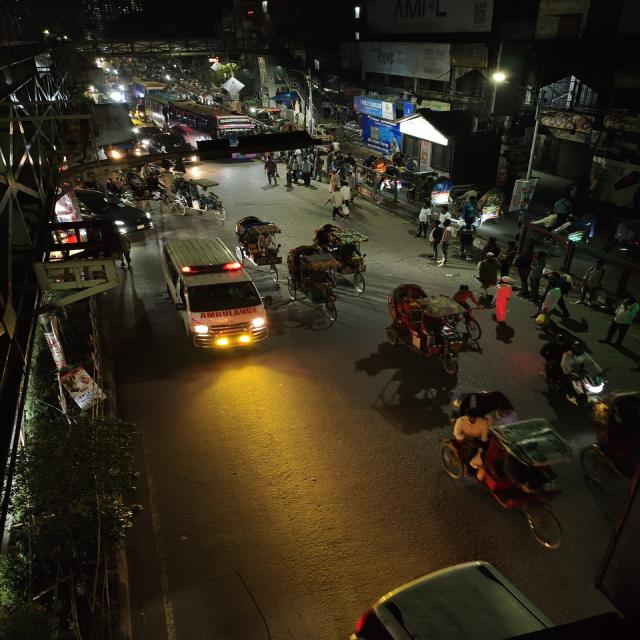bus: (144, 96, 254, 144)
car: (152, 232, 274, 354), (72, 192, 156, 230), (146, 135, 200, 163)
pedestrian: (534, 338, 616, 416), (530, 284, 572, 335), (602, 298, 639, 348), (452, 283, 484, 330), (487, 279, 520, 324), (426, 218, 456, 266), (522, 250, 550, 296), (474, 251, 504, 293), (510, 250, 539, 293), (578, 264, 603, 308), (328, 184, 356, 222), (291, 155, 317, 189), (454, 223, 477, 260), (459, 195, 482, 232), (260, 156, 281, 187), (556, 269, 576, 301), (414, 206, 433, 237), (313, 150, 330, 181), (283, 166, 300, 192), (483, 236, 501, 260), (502, 240, 517, 266)
pickup_van: (102, 142, 145, 162)
rickshaw: (433, 386, 584, 550), (377, 280, 481, 368), (284, 242, 343, 323), (311, 225, 374, 293), (232, 214, 285, 278), (168, 176, 229, 218), (408, 174, 454, 208)
